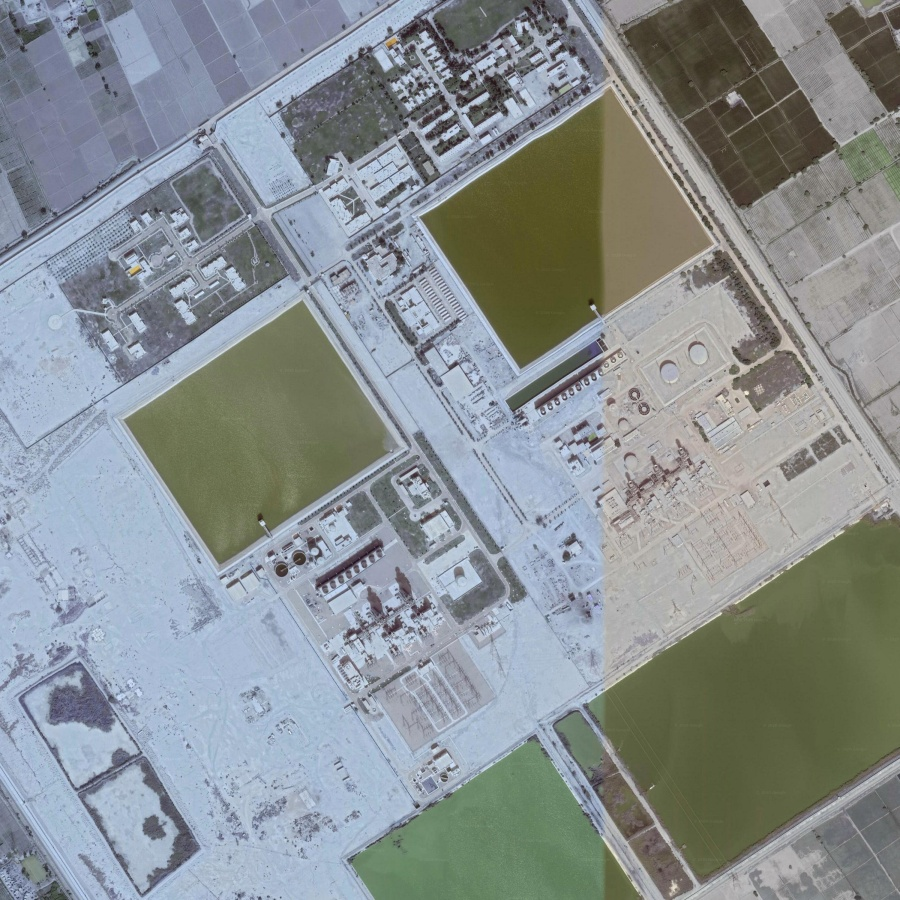PowerPlant: (271, 463, 513, 784), (553, 342, 748, 536)
